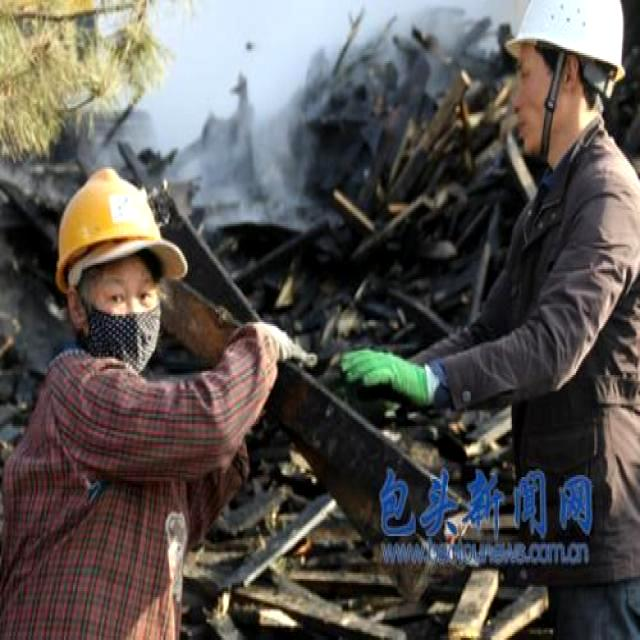hard_hat: (504, 0, 623, 86), (58, 168, 160, 254)
no_hard_hat: (67, 237, 187, 287)
person: (338, 0, 639, 638), (0, 169, 319, 638)
